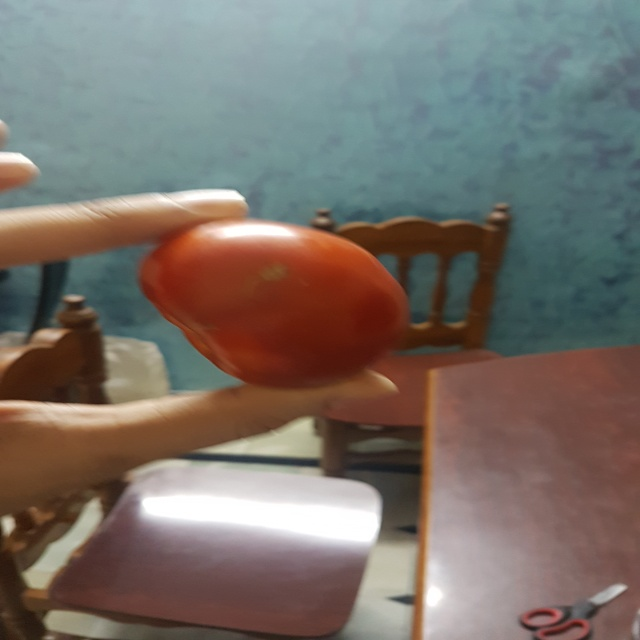tomato: (134, 206, 413, 390)
